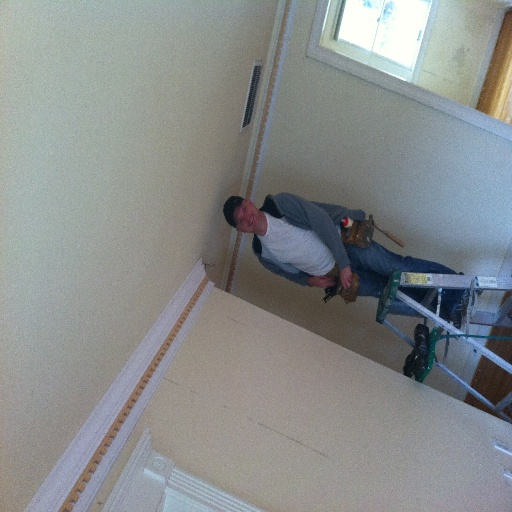hand: (311, 273, 335, 291), (339, 266, 354, 290)
